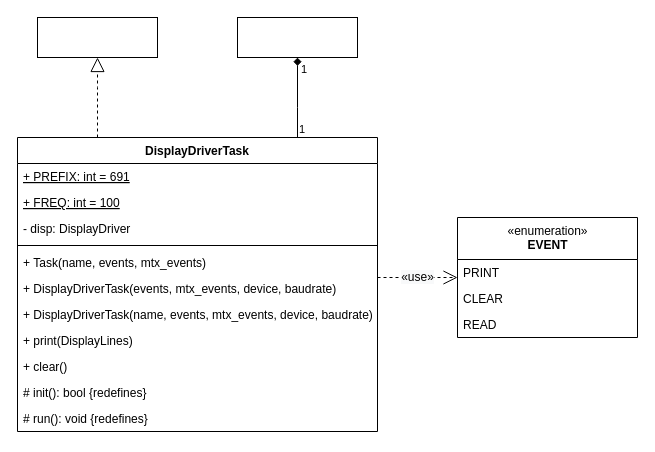
This 655x452 diagram has some shape labels left out. Here are the shapes that lost their labels. From the top down, the box of each, then its label:
(36, 16, 158, 58): «abstract» Task
(236, 16, 358, 58): DisplayDriver
